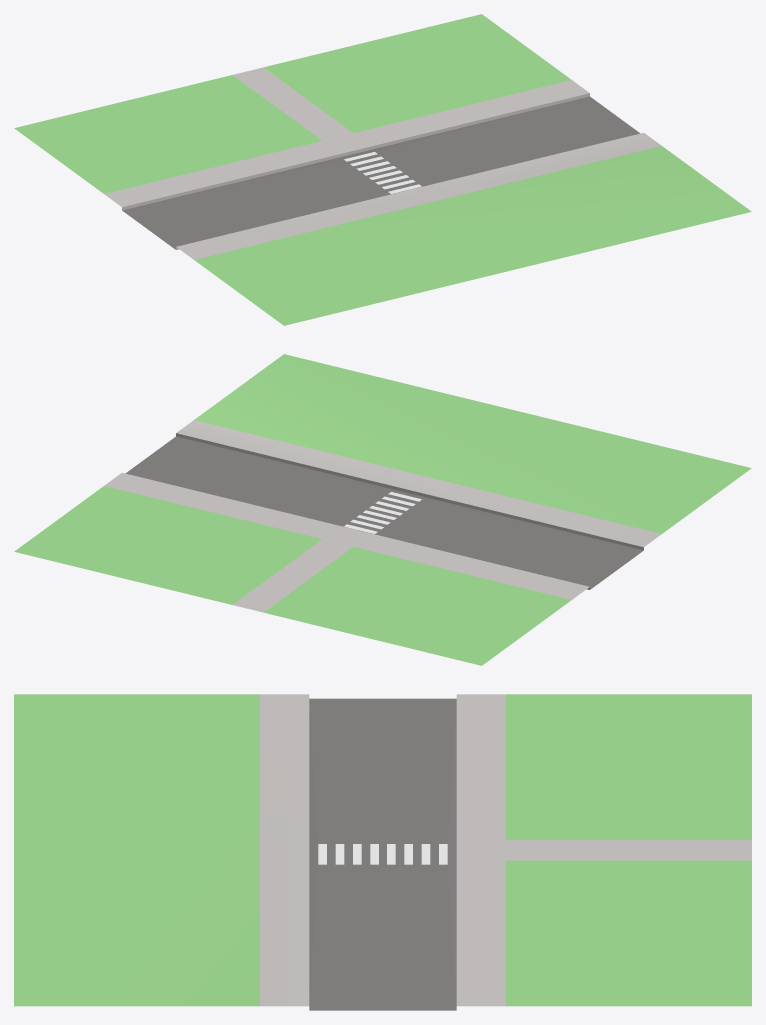
File: Tile_road_straight_crosswalk.fbx
3 views of the same model, one above another, from view 1: azimuth 30°, elevation 25°; view 2: azimuth 150°, elevation 25°; view 3: azimuth 270°, elevation 25° (orthographic). The views are drawn at different scales.
Visible parts, largest first — view 1: tile_road_straight_crosswalk_nb; view 2: tile_road_straight_crosswalk_nb; view 3: tile_road_straight_crosswalk_nb.
Part boxes in pixels (x1,y1,x2,y2): tile_road_straight_crosswalk_nb: (14, 14, 751, 325); tile_road_straight_crosswalk_nb: (14, 354, 751, 665); tile_road_straight_crosswalk_nb: (14, 694, 751, 1010).
Size of the model in its own units: 3000 by 20 by 3000.
